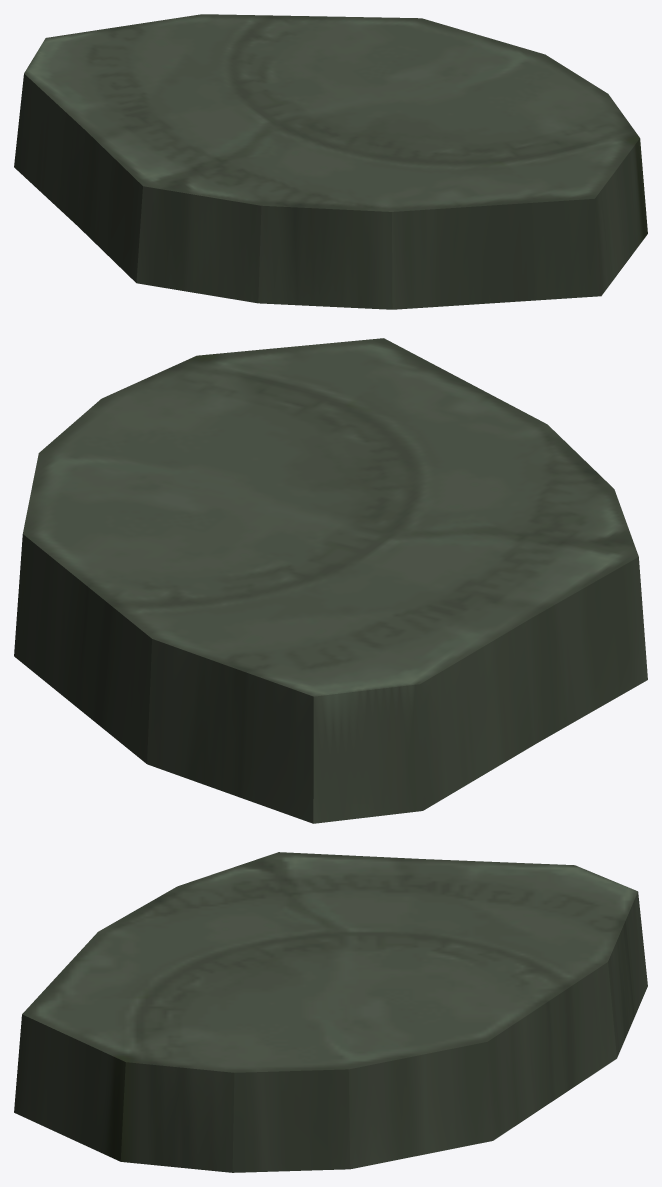
The model's file is yw_newshanlin_manholesuipian_006.FBX.
3 views of the same model, one above another, from view 1: azimuth 30°, elevation 25°; view 2: azimuth 150°, elevation 25°; view 3: azimuth 270°, elevation 25° (orthographic). The views are drawn at different scales.
Visible parts, largest first — view 1: yw_newshanlin_manholesuipian_006; view 2: yw_newshanlin_manholesuipian_006; view 3: yw_newshanlin_manholesuipian_006.
Boxes of the visible parts, <box> form: yw_newshanlin_manholesuipian_006: <box>14,14,647,309</box>; yw_newshanlin_manholesuipian_006: <box>14,338,647,823</box>; yw_newshanlin_manholesuipian_006: <box>14,852,647,1172</box>.
Bounding box in the file's own units: 182 × 214 × 36.2.
